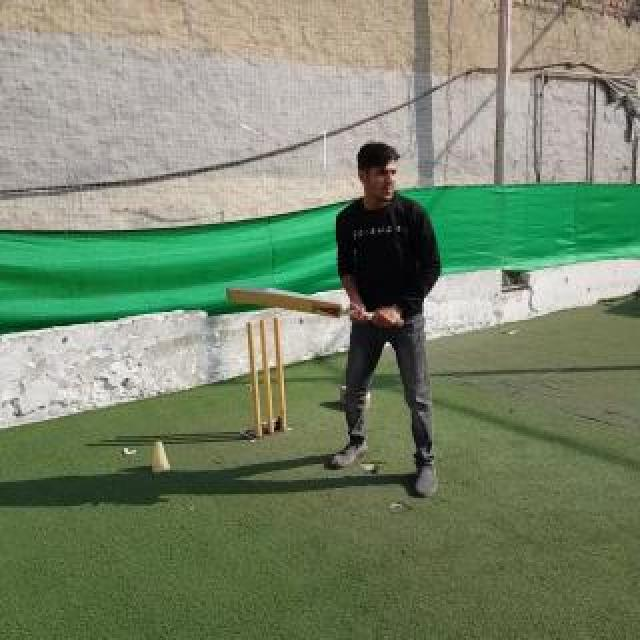bat: (226, 286, 404, 328)
